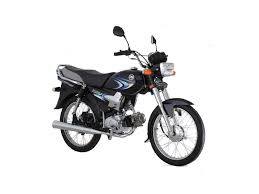motorcycle: (51, 25, 207, 167)
